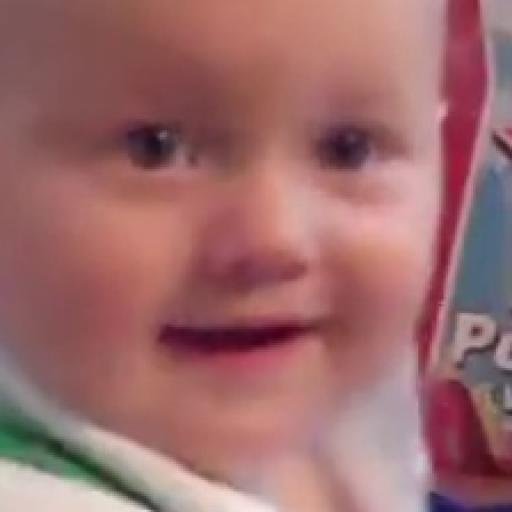Autism: (23, 25, 484, 464)
